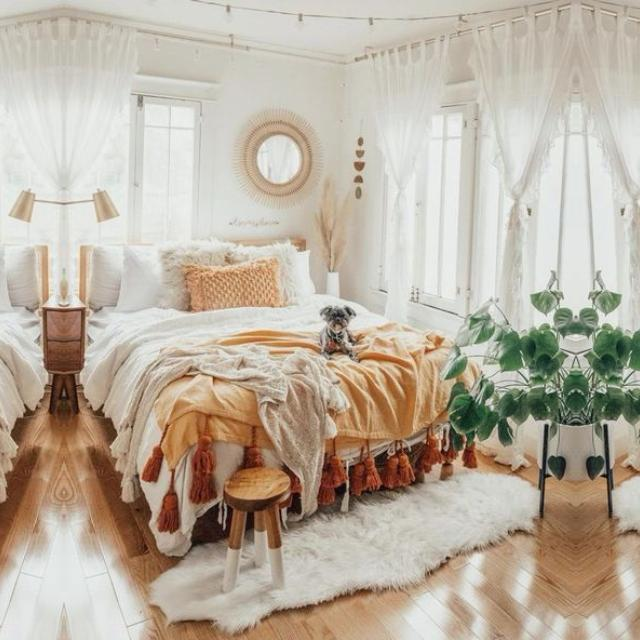bed: (80, 241, 449, 556), (418, 450, 429, 471)
curtain: (469, 6, 574, 328), (372, 39, 446, 321), (577, 6, 640, 328), (63, 19, 136, 191), (0, 19, 63, 191)
light: (63, 189, 119, 222), (7, 189, 63, 222)
plant: (443, 274, 575, 516), (575, 274, 640, 516)
rug: (149, 471, 537, 632)
table: (63, 299, 84, 413), (42, 299, 63, 413)
